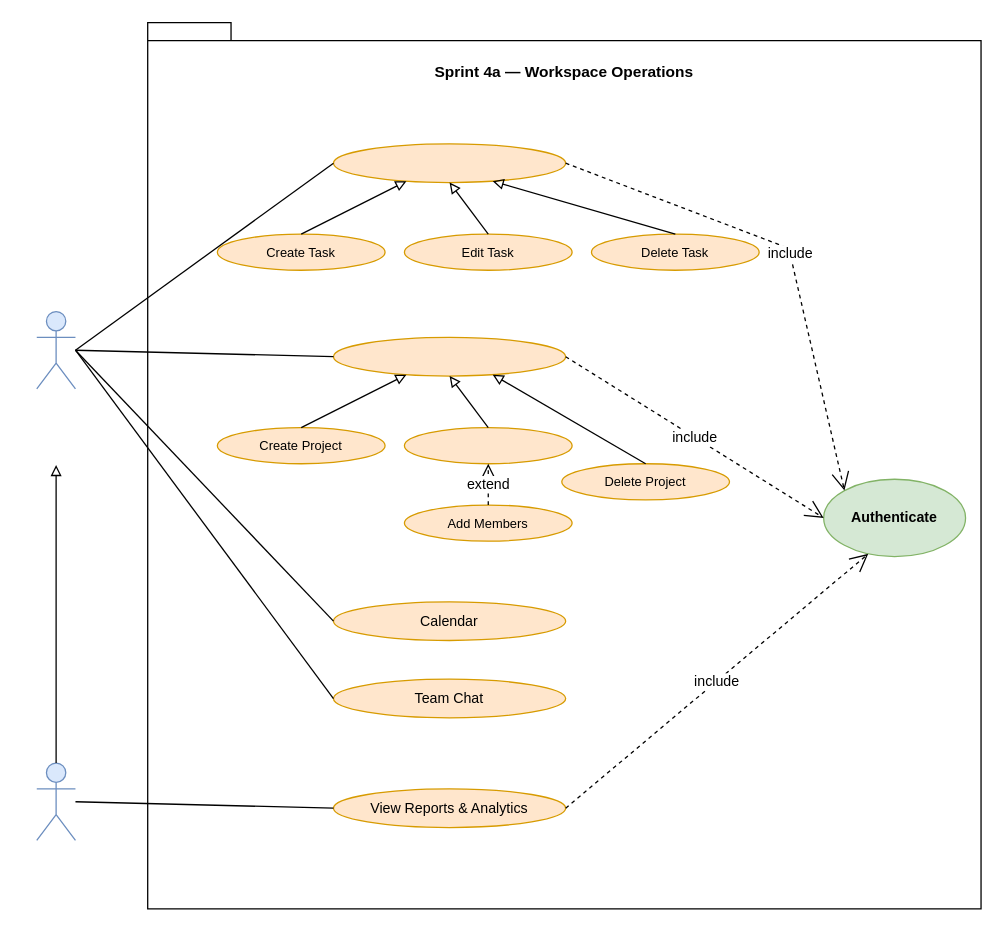
Image size: 1004x931. Some labels were removed from this diagram. Here are the shapes that lost their labels. From the top down, the centre of each, then its label:
At point (449, 163): "Manage Tasks".
At point (55, 349): "Intern".
At point (449, 356): "Manage Projects".
At point (487, 445): "Edit Project".
At point (55, 801): "Employee".
